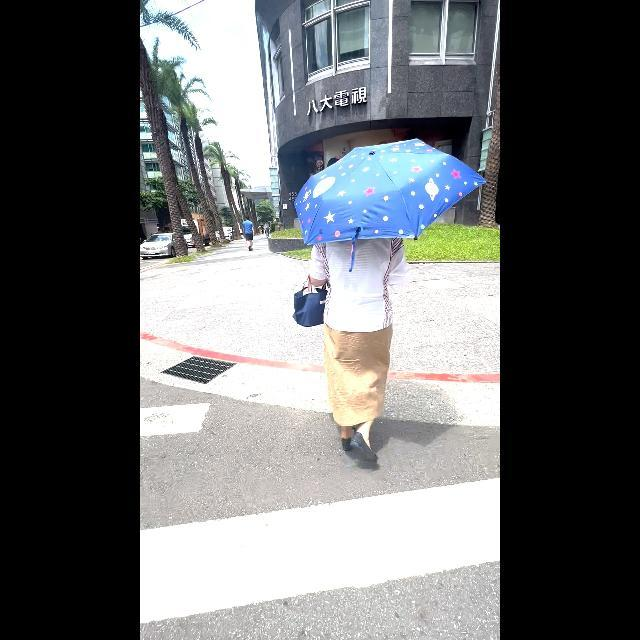sidewalk: (140, 381, 498, 640)
